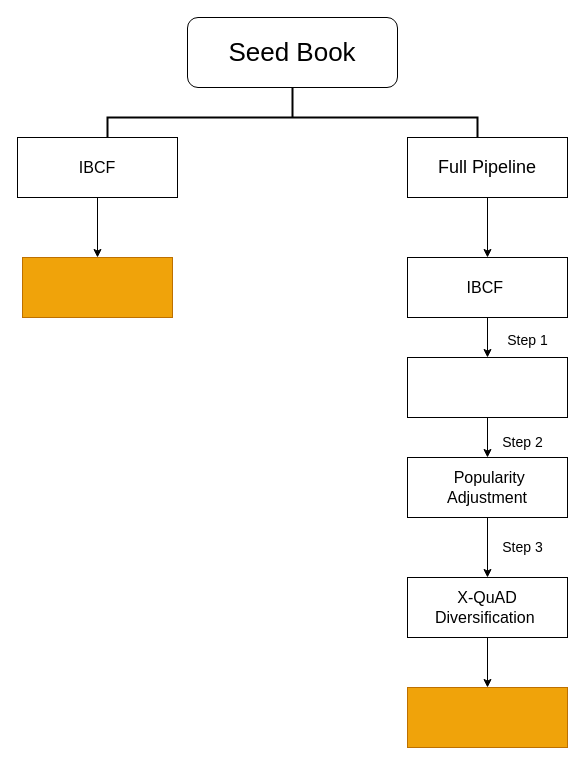
Image size: 585x765. Some labels were removed from this diagram. Each missing label, with the centre of its shape:
"Final Top-10 Recommendations" belongs at (487,717).
"Maximal Marginal Relevance (MMR)" belongs at (487,387).
"Top 10 Recommendations" belongs at (97,287).
